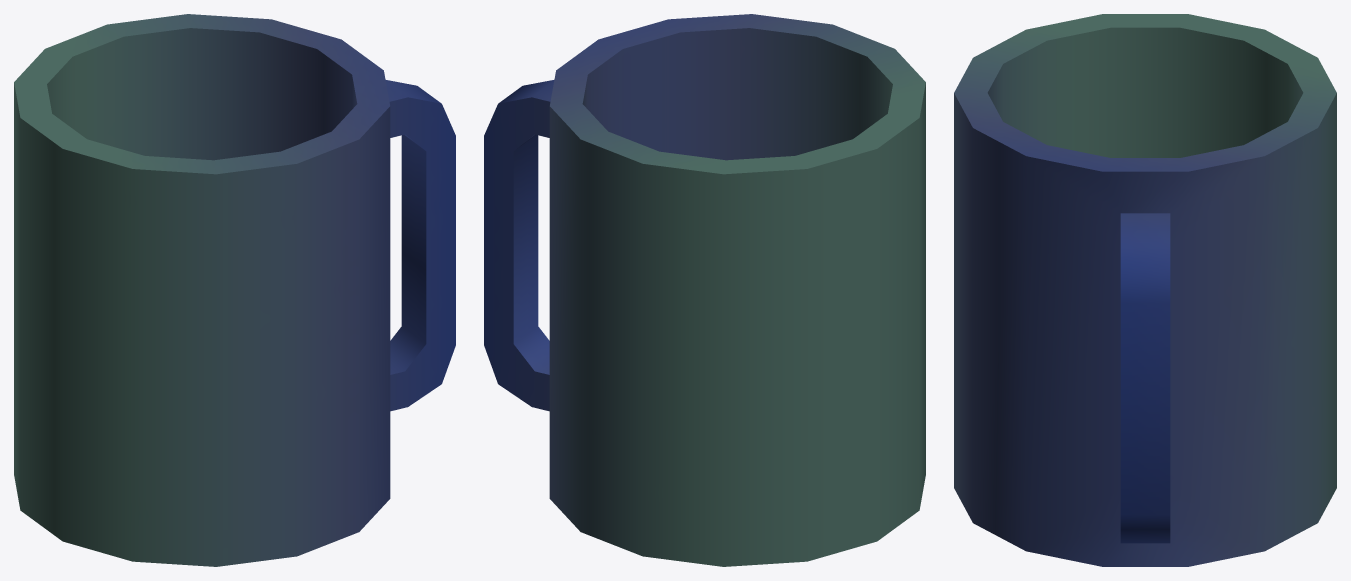
Rendered from RS_mugs_1.fbx.
3 views of the same model, side by side, from view 1: azimuth 30°, elevation 25°; view 2: azimuth 150°, elevation 25°; view 3: azimuth 270°, elevation 25° (orthographic).
Visible parts, largest first — view 1: mug_1; view 2: mug_1; view 3: mug_1.
Boxes of the visible parts, x1=… form: mug_1: x1=14, y1=14, x2=455, y2=566; mug_1: x1=484, y1=14, x2=925, y2=566; mug_1: x1=954, y1=14, x2=1336, y2=566.
Bounding box in the file's own units: 43.97 × 41.02 × 36.02.
